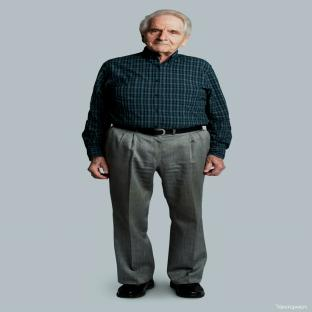Human: (83, 10, 232, 298)
